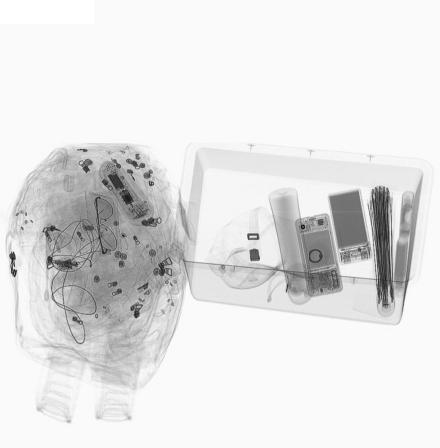Powerbank: (325, 186, 374, 266)
